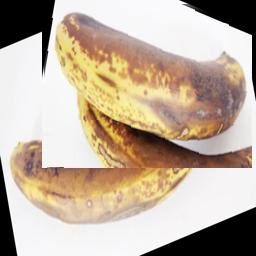Banana Rotten: (42, 1, 252, 169)
